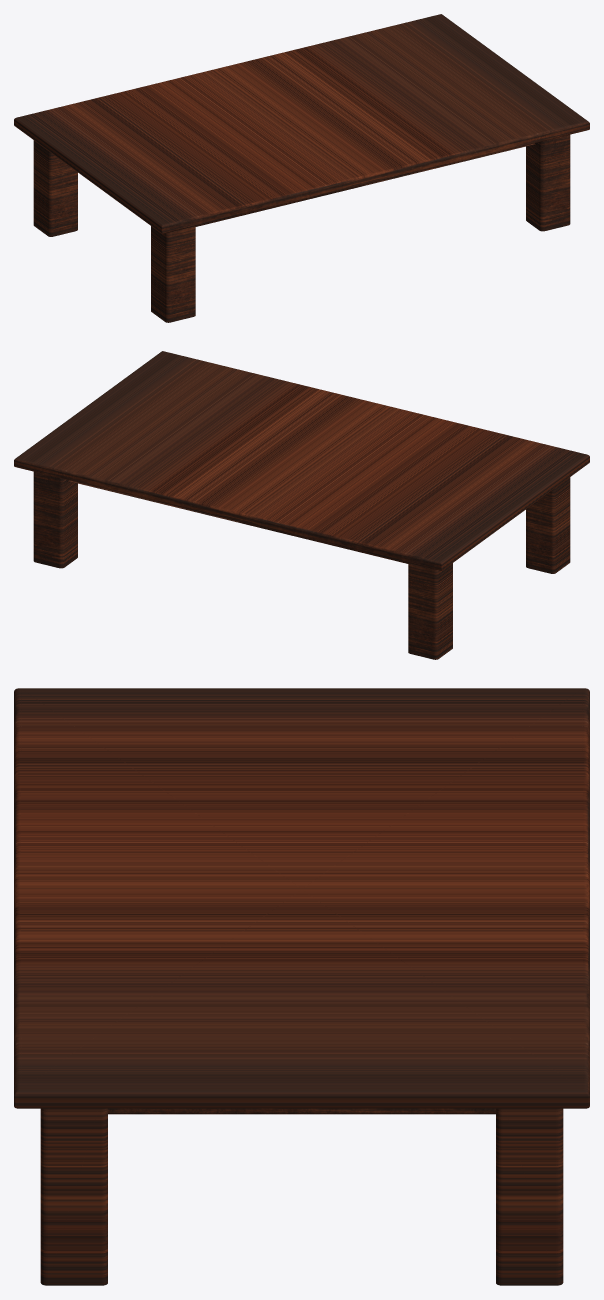
File: table.fbx
3 renders of one model, top to bottom at view 1: azimuth 30°, elevation 25°; view 2: azimuth 150°, elevation 25°; view 3: azimuth 270°, elevation 25°, orthographic. The views are drawn at different scales.
Visible parts, largest first — view 1: Cube; view 2: Cube; view 3: Cube.
Part boxes in pixels (x1,y1,x2,y2): Cube: (14, 14, 589, 322); Cube: (14, 351, 589, 659); Cube: (14, 688, 589, 1285).
Bounding box in the file's own units: 200 × 47.08 × 120.
